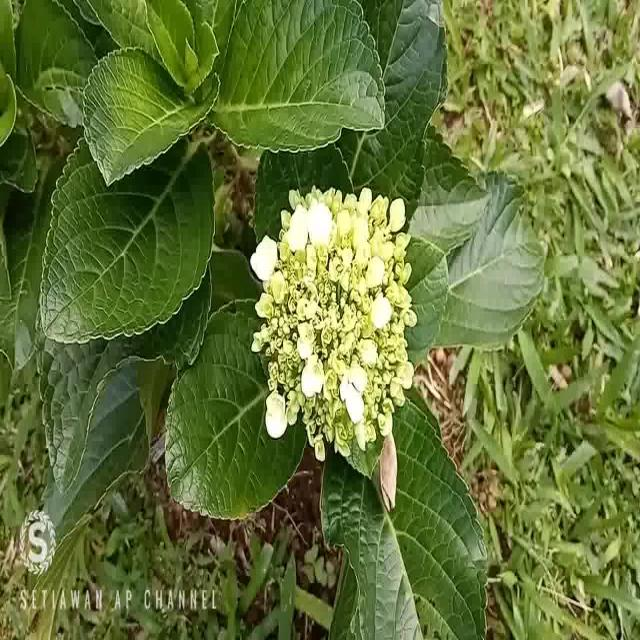Flower: (250, 183, 416, 464)
